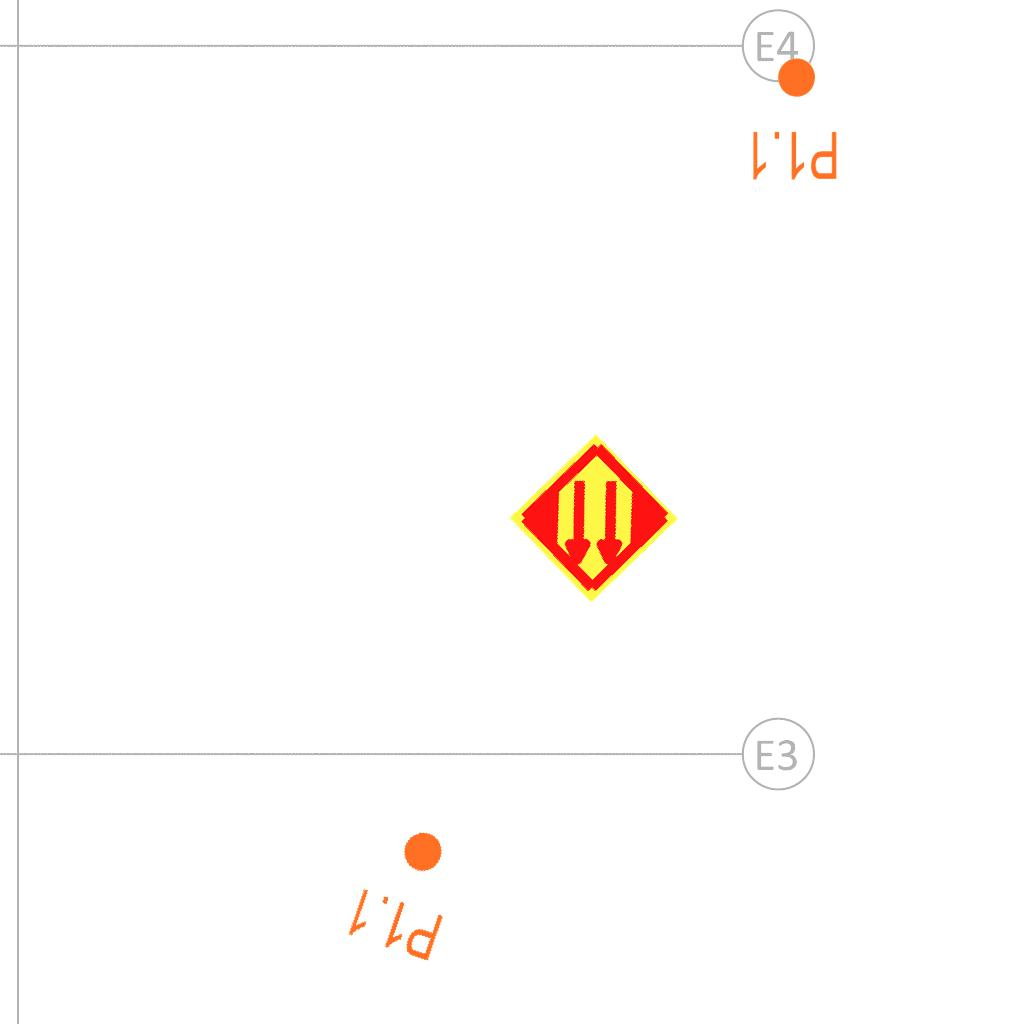ASR_Ansaugrauchmelder: (505, 430, 682, 607)
Downlight_LED_Einbauleuchten_Flur: (341, 814, 472, 966), (747, 55, 840, 183)
